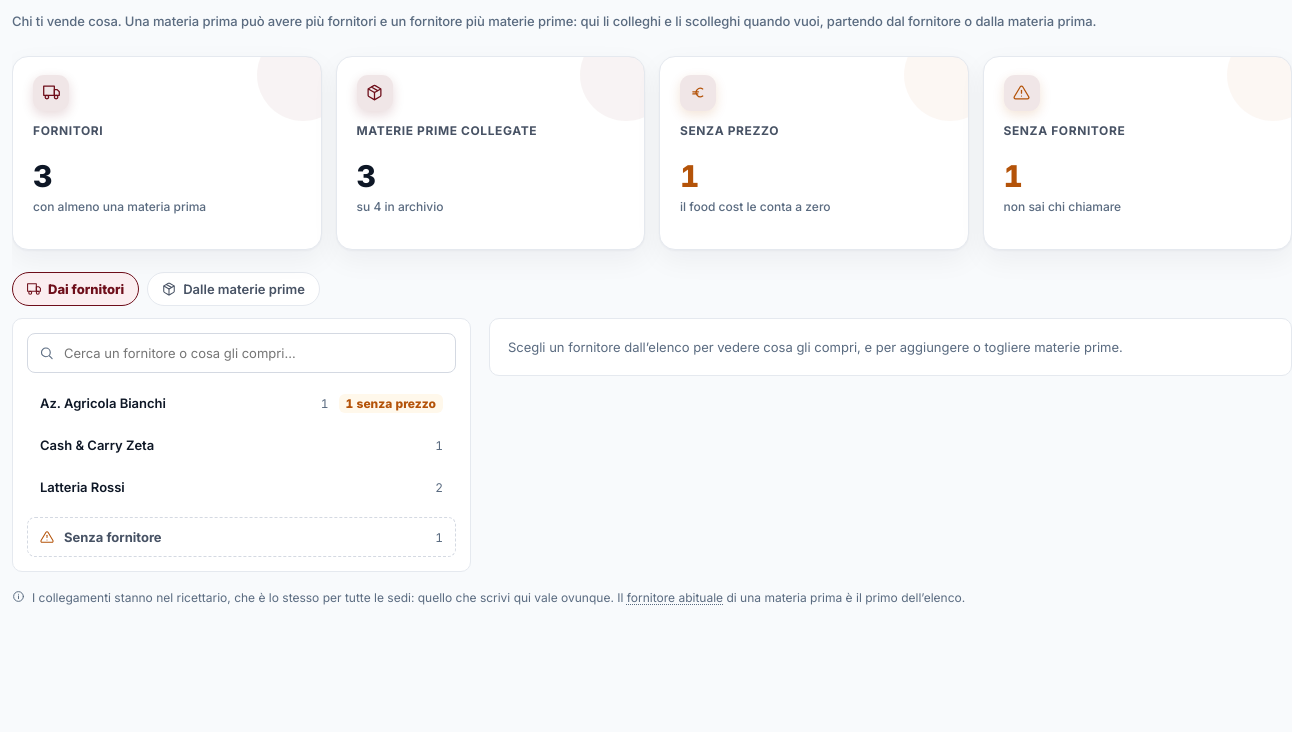
Test: i due versi della stessa relazione › partendo dal fornitore si vede cosa gli compri
Click the button "Latteria Rossi 2" at (82, 487), box [27,467,456,507]
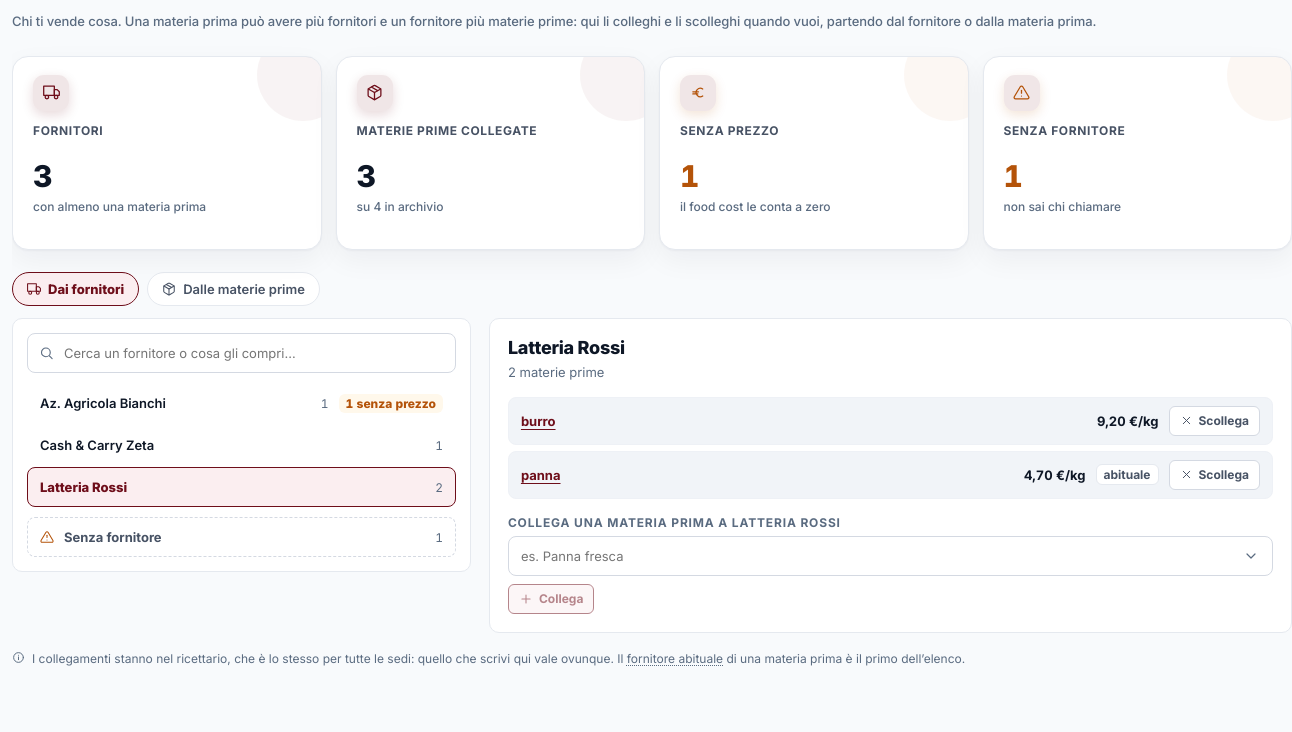
Result: the heading "Latteria Rossi" is shown at [508,337,625,358]
Result: the text "2 materie prime" is shown at [508,364,604,380]
